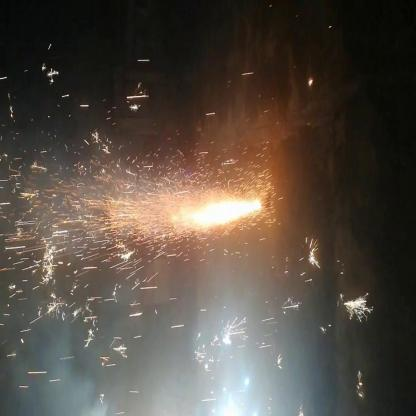fire: (127, 187, 264, 238)
